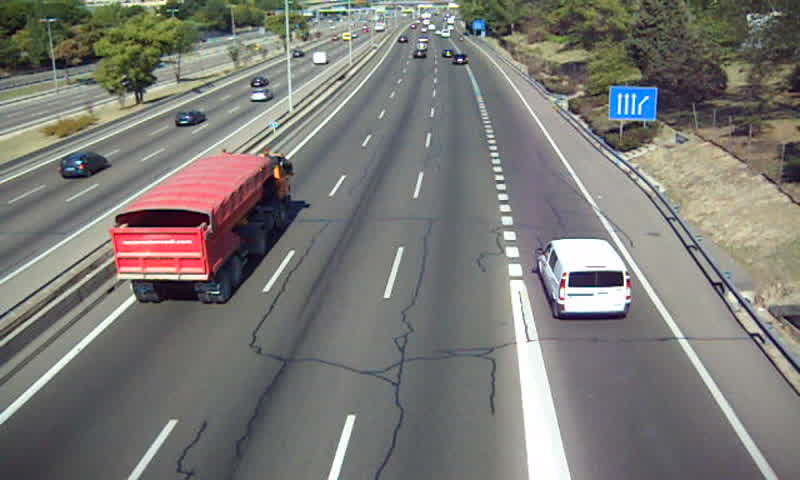car: (451, 53, 468, 66)
truck: (112, 152, 292, 302)
van: (535, 238, 631, 321)
